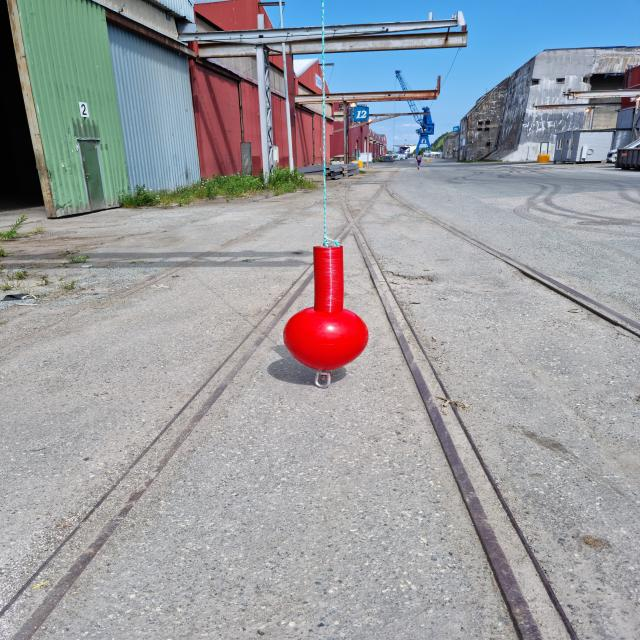red: (284, 245, 368, 372)
